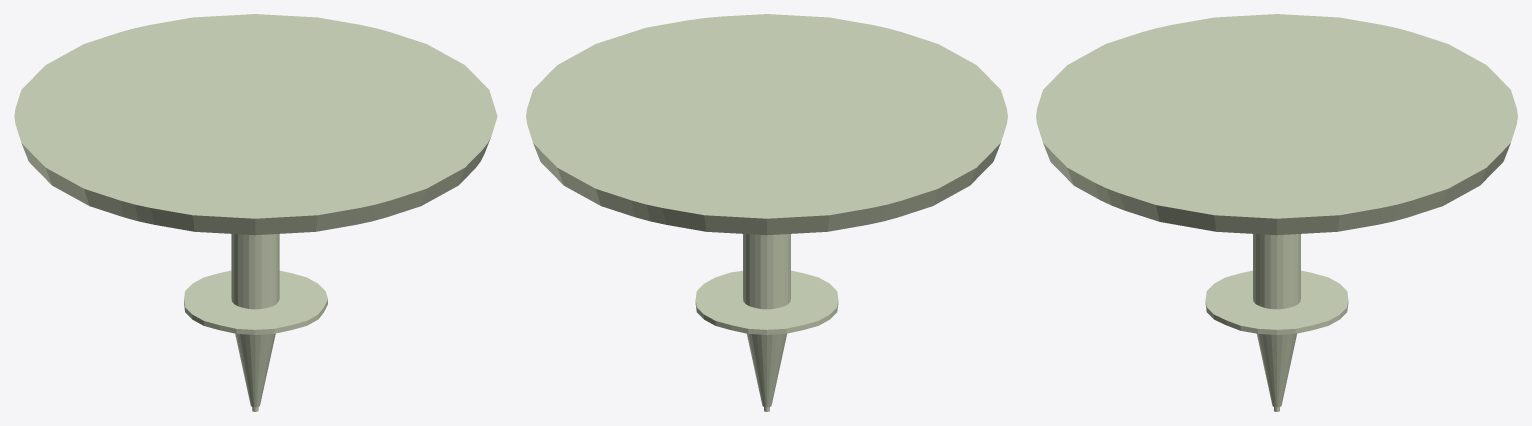
The model's file is base_outside_low.fbx.
The picture shows the model from 3 angles, left to right: view 1: azimuth 30°, elevation 25°; view 2: azimuth 150°, elevation 25°; view 3: azimuth 270°, elevation 25°; orthographic projection.
Parts seen in each view (by area): view 1: base_outside; view 2: base_outside; view 3: base_outside.
Boxes of the visible parts, <box> form: base_outside: <box>14,14,497,411</box>; base_outside: <box>526,14,1007,411</box>; base_outside: <box>1036,14,1517,411</box>.
Size of the model in its own units: 7117 by 4770 by 7080.
